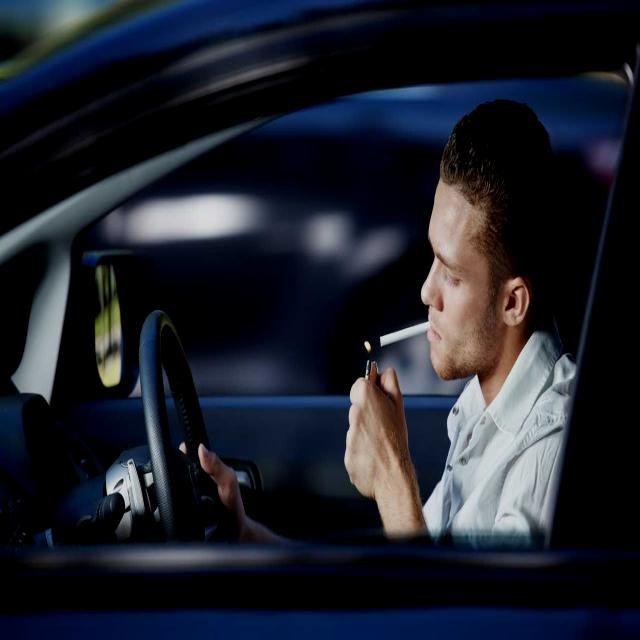Smooking: (373, 307, 432, 353)
